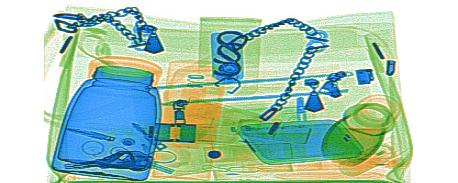plasticBottleWithaNozzle: (162, 59, 226, 178)
pressure: (336, 135, 406, 177)
